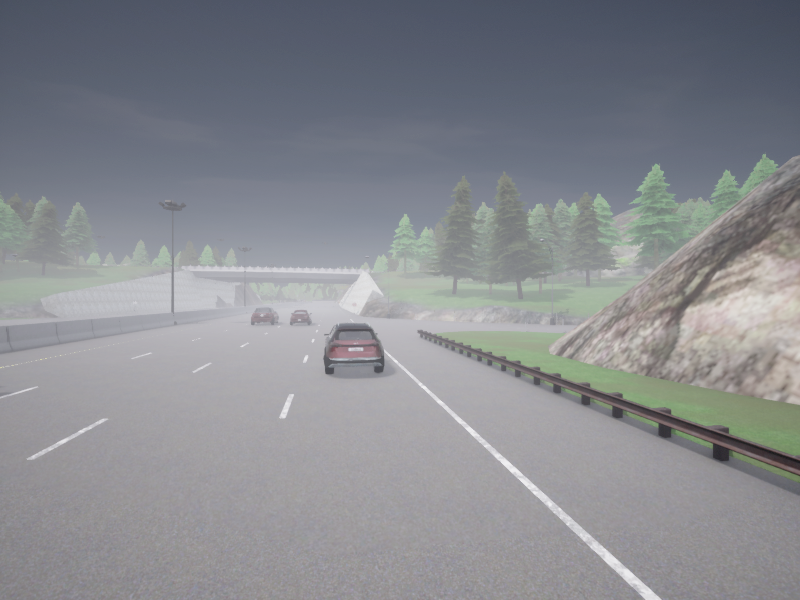vehicle: (323, 322, 383, 373), (251, 307, 278, 324), (288, 310, 312, 325)
